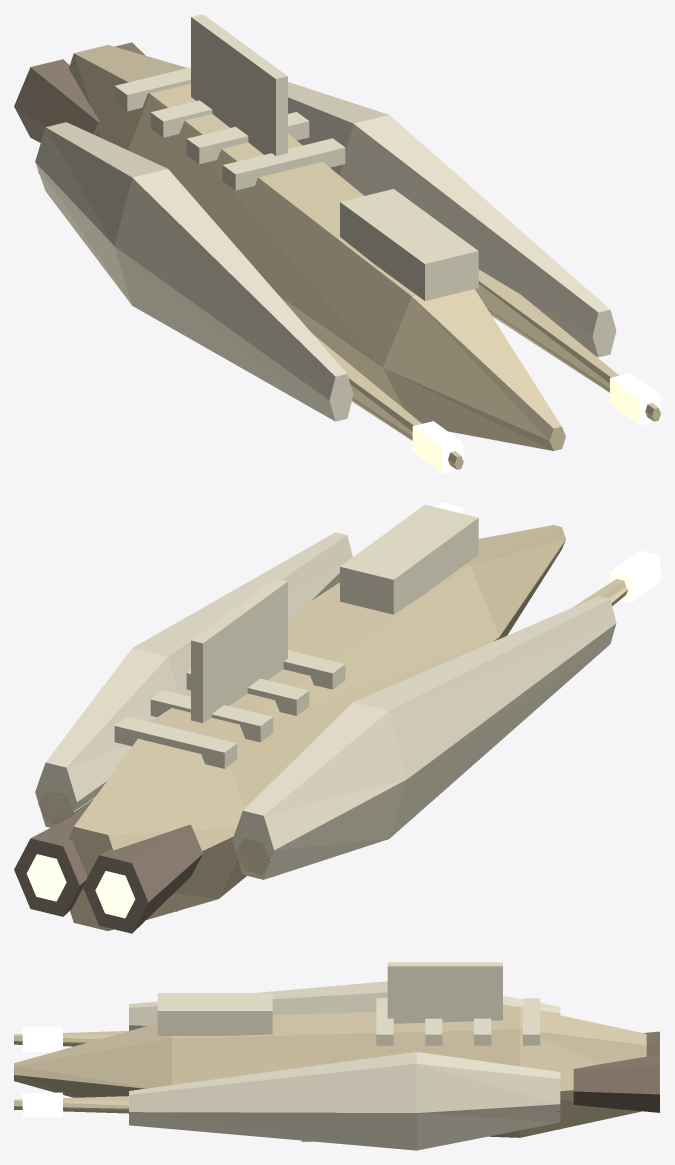
3 renders of one model, top to bottom at view 1: azimuth 30°, elevation 25°; view 2: azimuth 150°, elevation 25°; view 3: azimuth 270°, elevation 25°, orthographic. The views are drawn at different scales.
Size of the model in its own units: 1.71 by 1.33 by 4.82.
